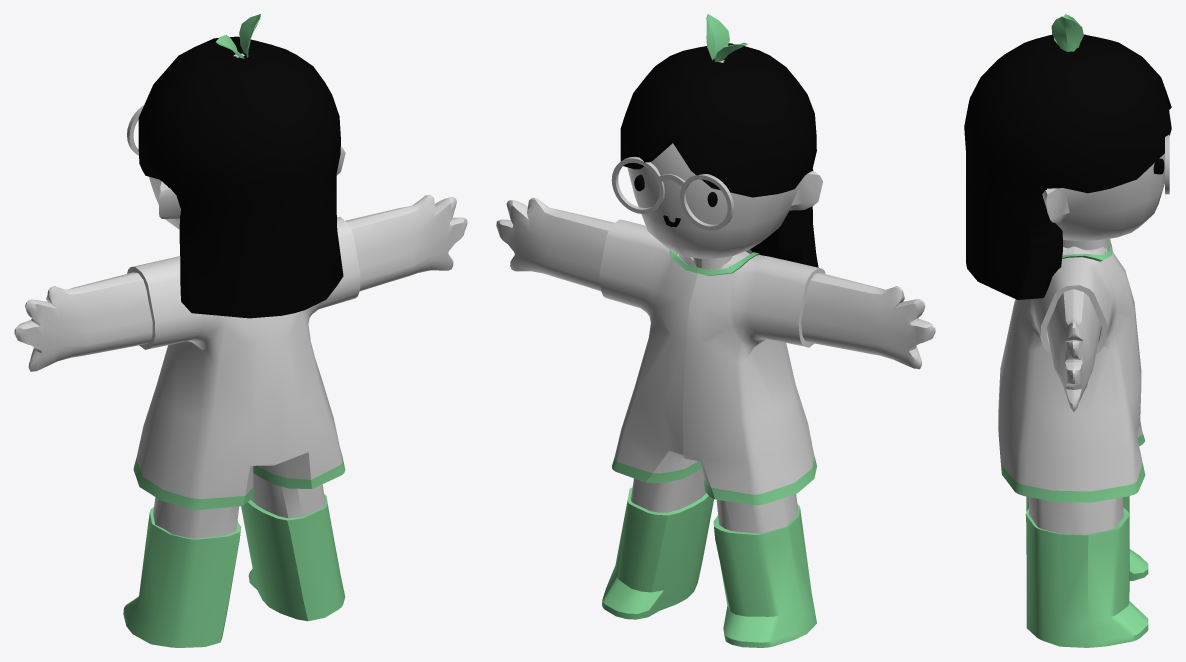
The model's file is characterTest.fbx.
3 renders of one model, left to right at view 1: azimuth 30°, elevation 25°; view 2: azimuth 150°, elevation 25°; view 3: azimuth 270°, elevation 25°, orthographic. The views are drawn at different scales.
Visible parts, largest first — view 1: BLOCKING; view 2: BLOCKING; view 3: BLOCKING.
Part boxes in pixels (<box>): BLOCKING: <box>14,14,467,647</box>; BLOCKING: <box>496,14,935,647</box>; BLOCKING: <box>964,14,1171,647</box>.
Bounding box in the file's own units: 162 × 207 × 65.88.
